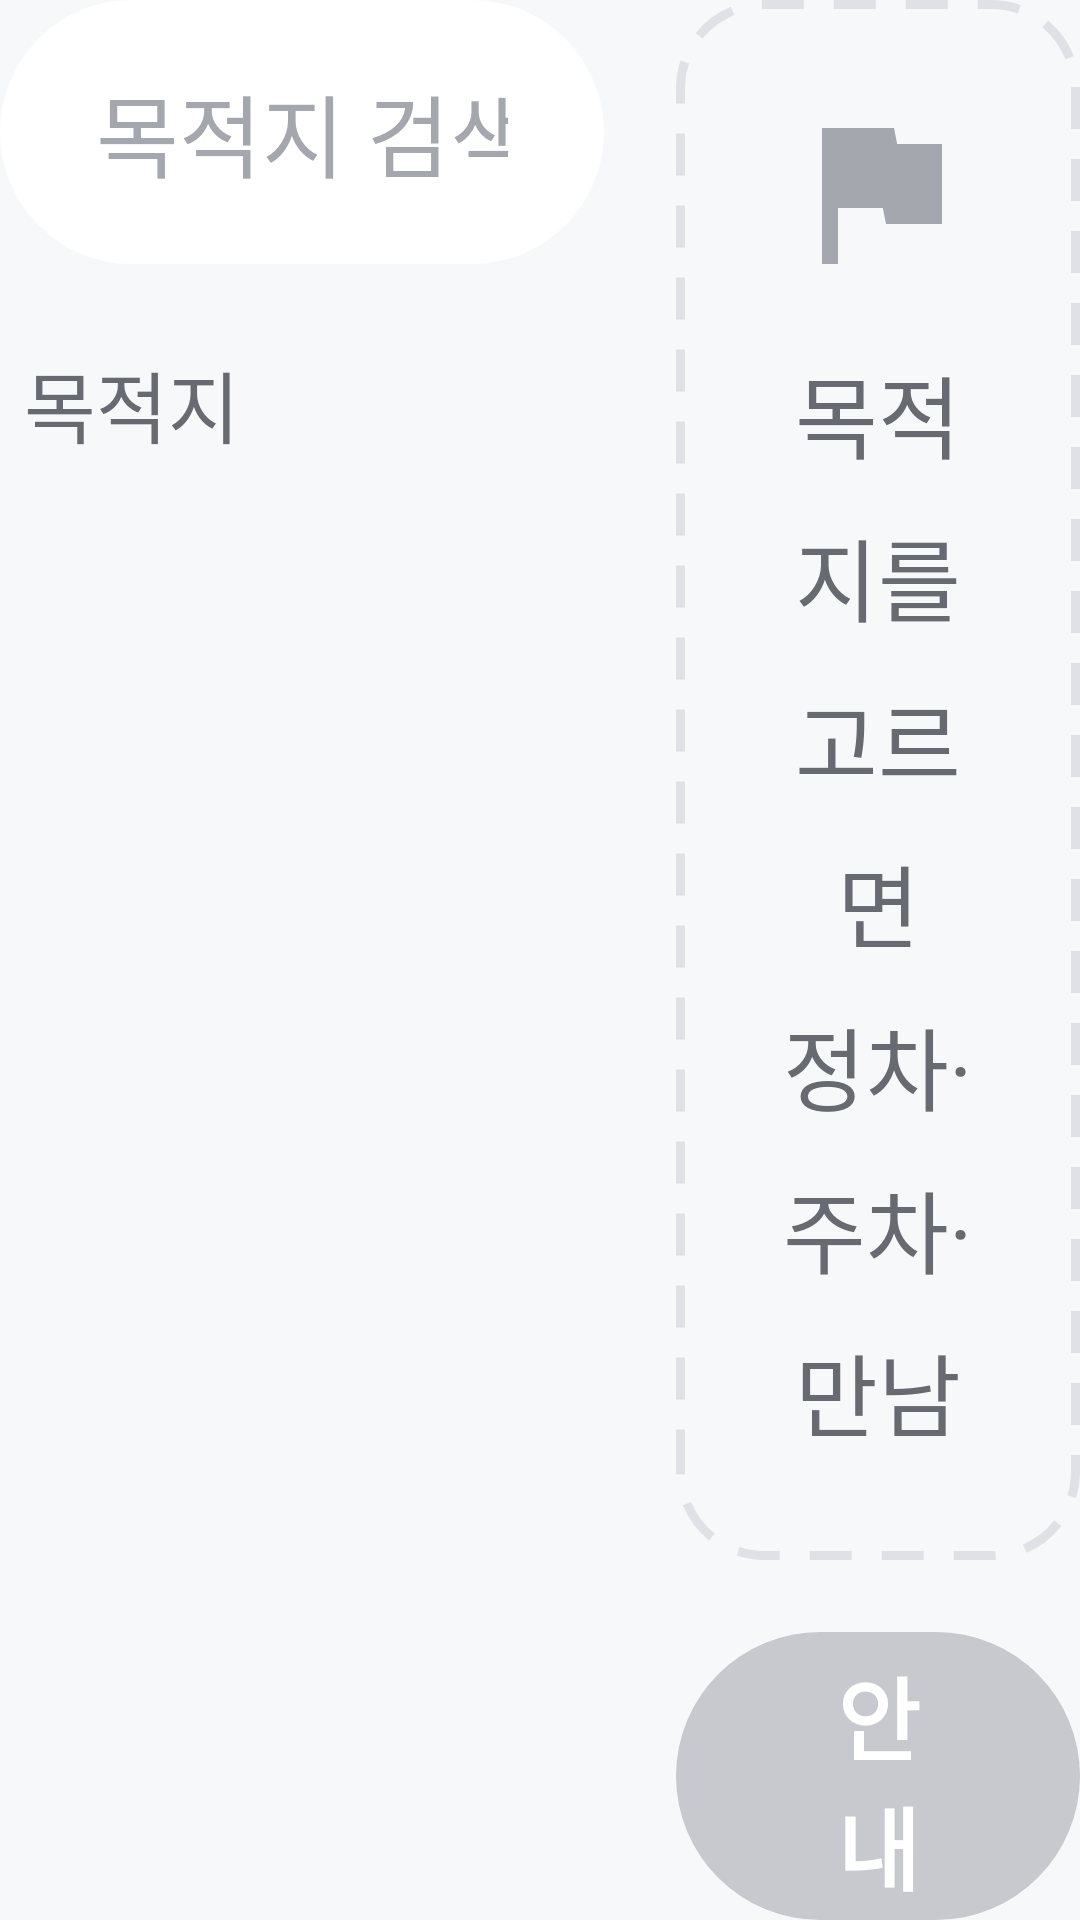

Icons on this 1080w x 1920h Android screen, each with its box as (x1=x1, y1=y1, x2=x2, y2=y2):
flag: (x1=822, y1=128, x2=942, y2=264)
